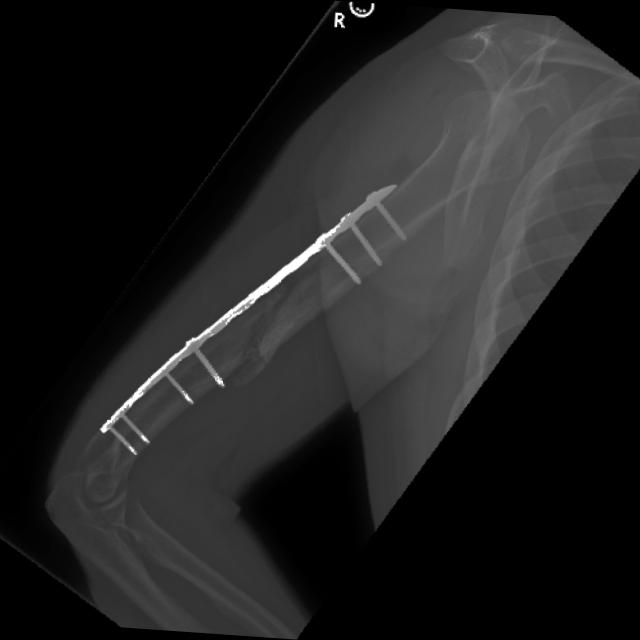humerus fracture: (200, 270, 348, 413)
